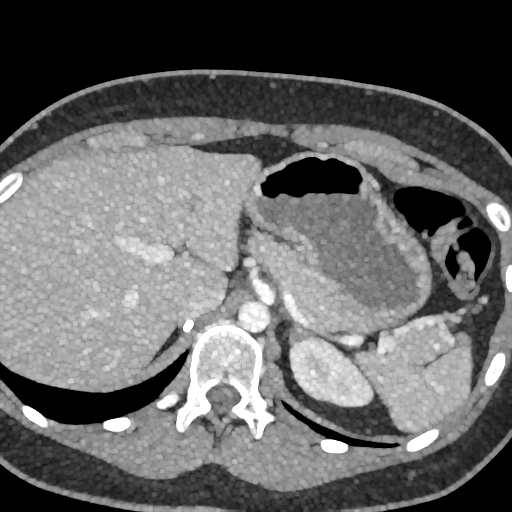Lesion: (281, 325, 314, 346)
